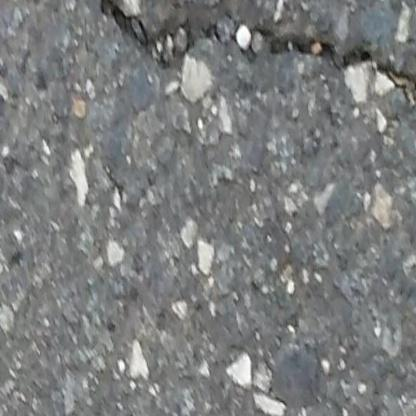Cracks: (94, 0, 416, 109)
